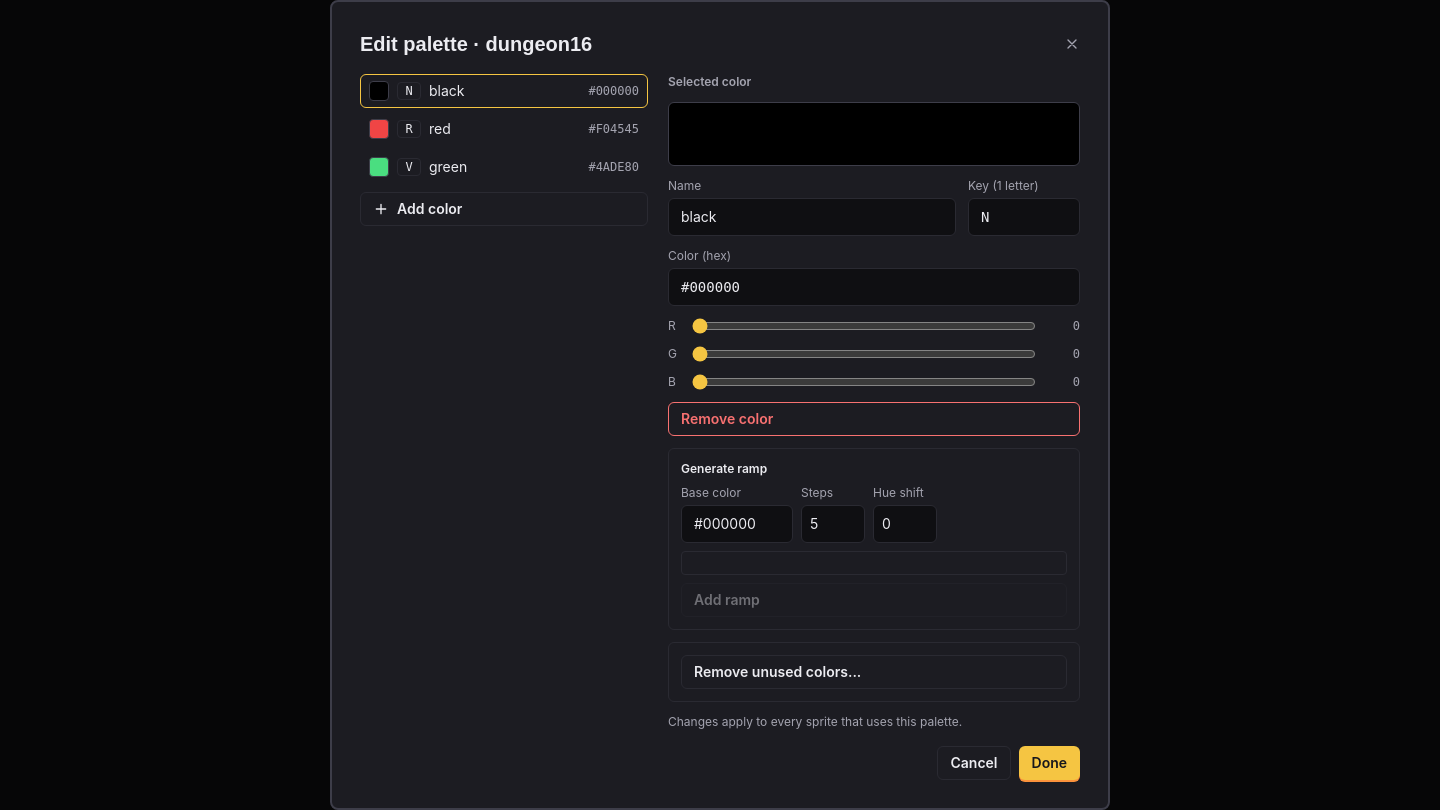
Test: Palette editor dialog › changes the color with the RGB sliders
Expected: the dialog is shown, x1=330 y1=0 x2=1110 y2=809
Step 1. Click the button "R red #F04545" → (614, 129), box x1=360 y1=112 x2=648 y2=146
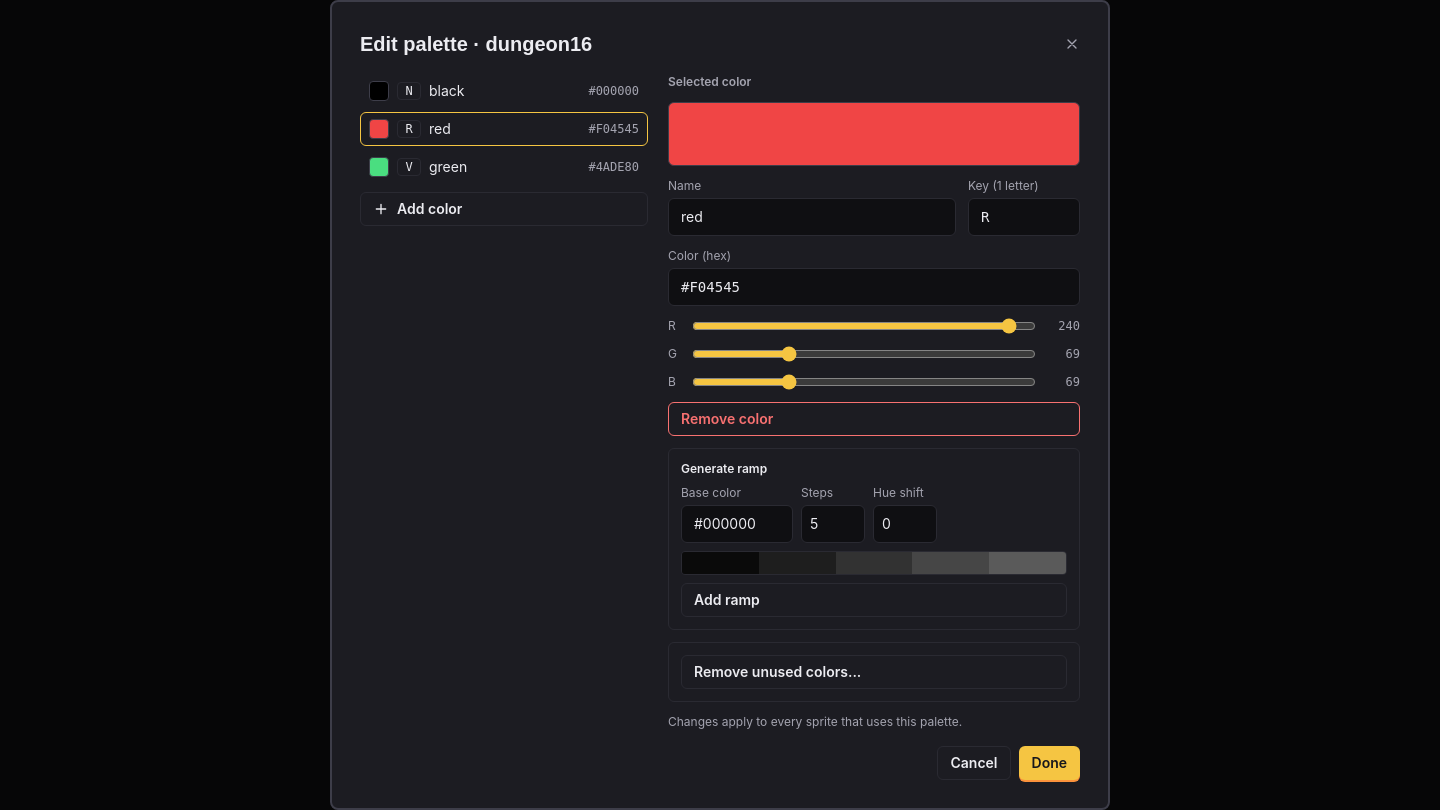
Step 2. Set the slider named "Red" to "208" → (968, 326), box x1=692 y1=318 x2=1036 y2=334
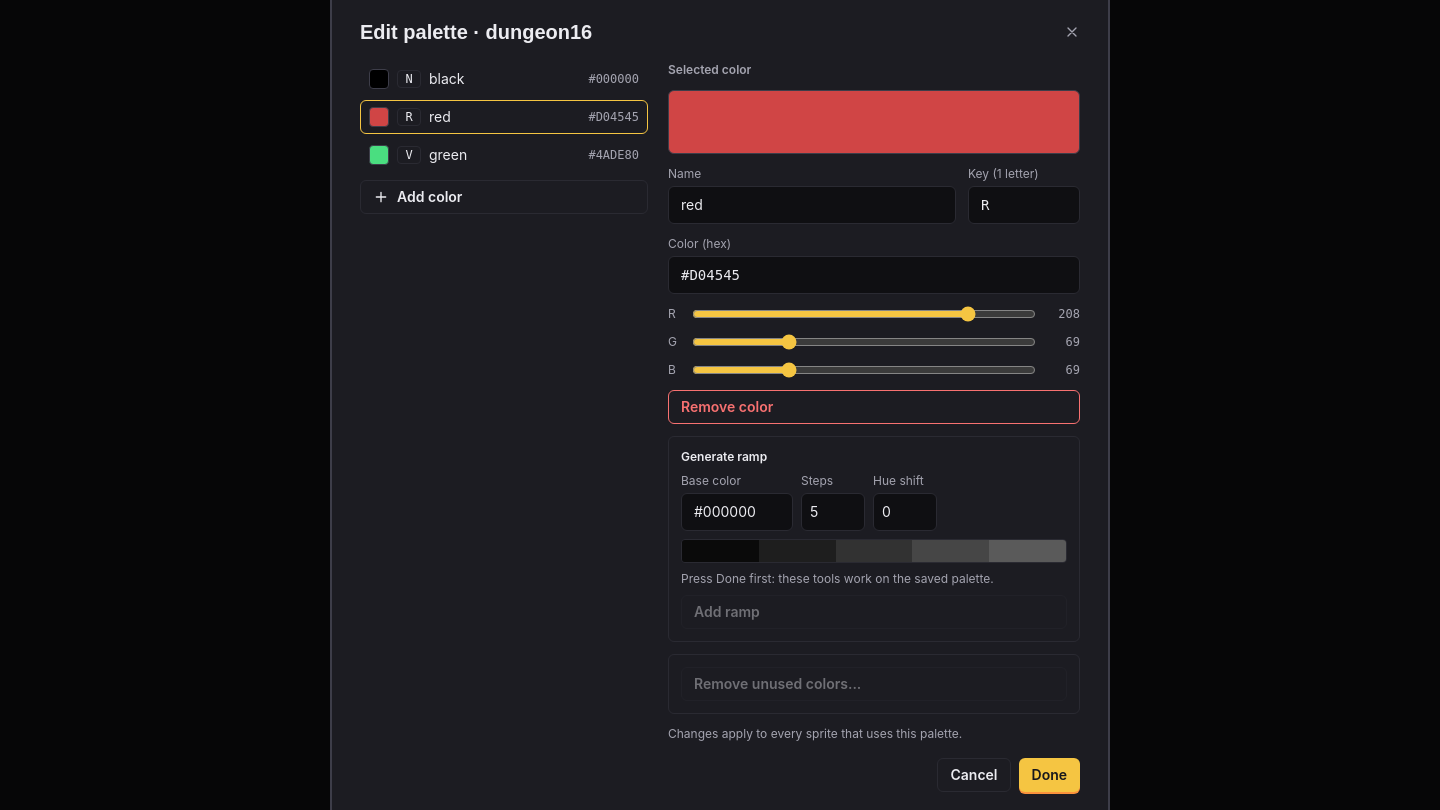
Expected: the field labelled "Color (hex)" holds "#D04545", x1=668 y1=256 x2=1080 y2=294
